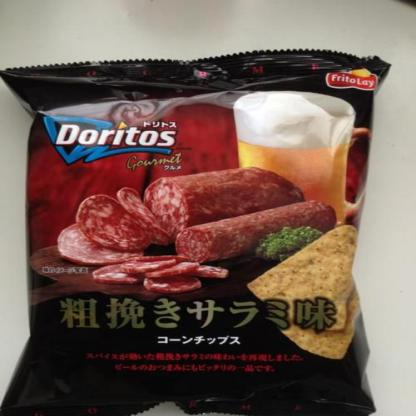potatochip: (0, 47, 393, 416)
